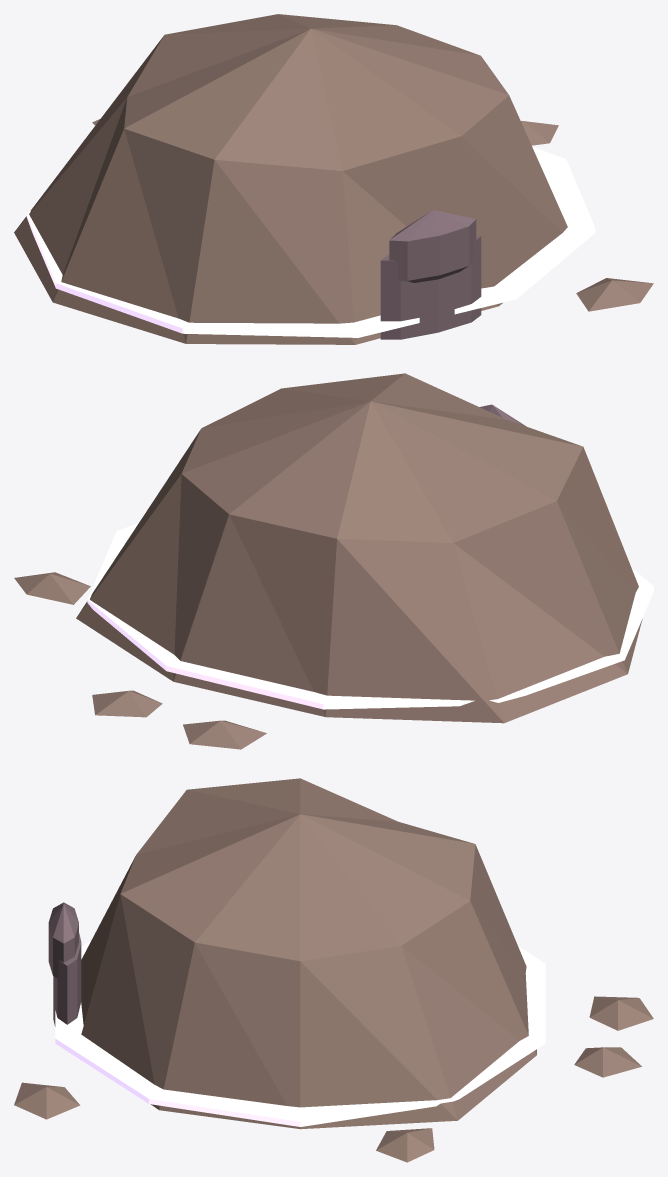
File: burrow_stage3.glb
3 renders of one model, top to bottom at view 1: azimuth 30°, elevation 25°; view 2: azimuth 150°, elevation 25°; view 3: azimuth 270°, elevation 25°, orthographic. The views are drawn at different scales.
Parts seen in each view (by area): view 1: mound, door, glow_trim; view 2: mound, glow_trim; view 3: mound, glow_trim, door.
Boxes of the visible parts, left/top/right/bottom form: mound: left=14, top=14, right=653, bottom=344; door: left=380, top=210, right=481, bottom=339; glow_trim: left=26, top=147, right=595, bottom=337; mound: left=14, top=373, right=642, bottom=749; glow_trim: left=87, top=523, right=653, bottom=709; mound: left=14, top=778, right=653, bottom=1162; glow_trim: left=55, top=941, right=545, bottom=1126; door: left=48, top=902, right=81, bottom=1026.
Size of the model in its own units: 0.8912 by 0.32 by 0.9061.
